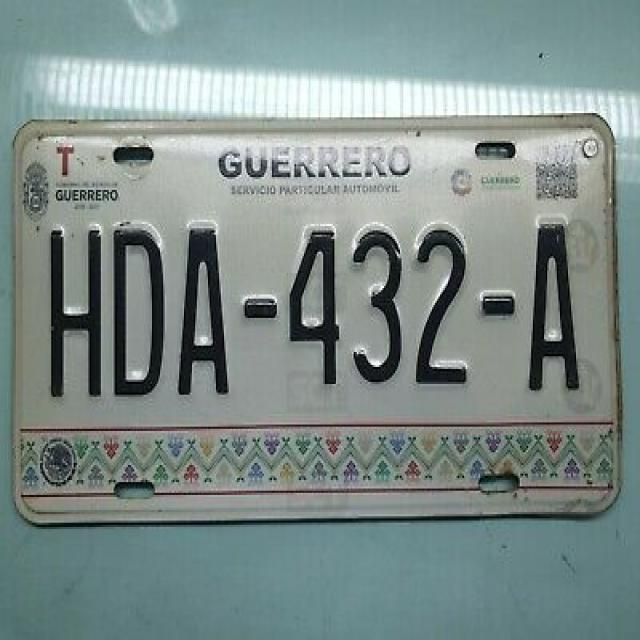placa: (24, 207, 607, 421)
